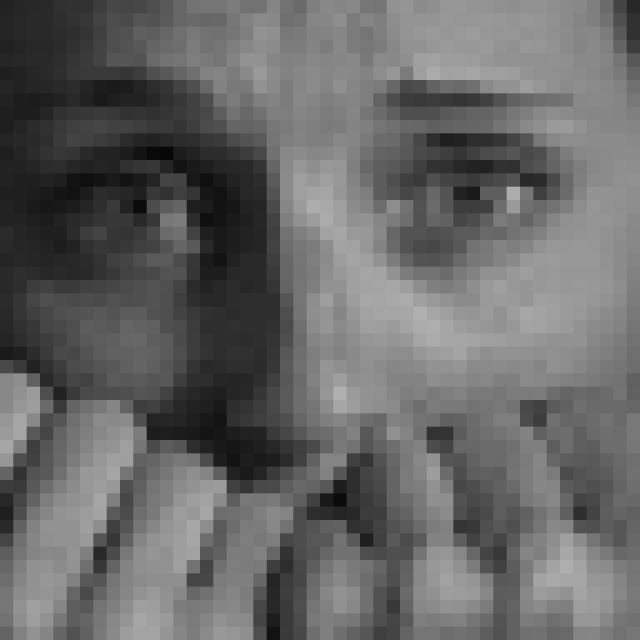fear: (0, 56, 599, 616)
